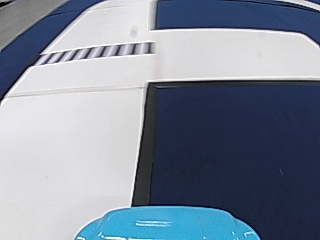CrossWalk: (44, 41, 154, 61)
